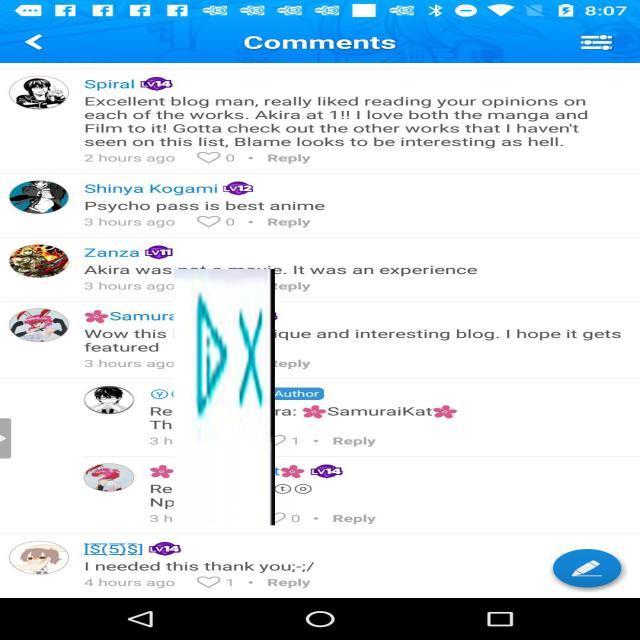sneaking: (174, 269, 275, 525)
